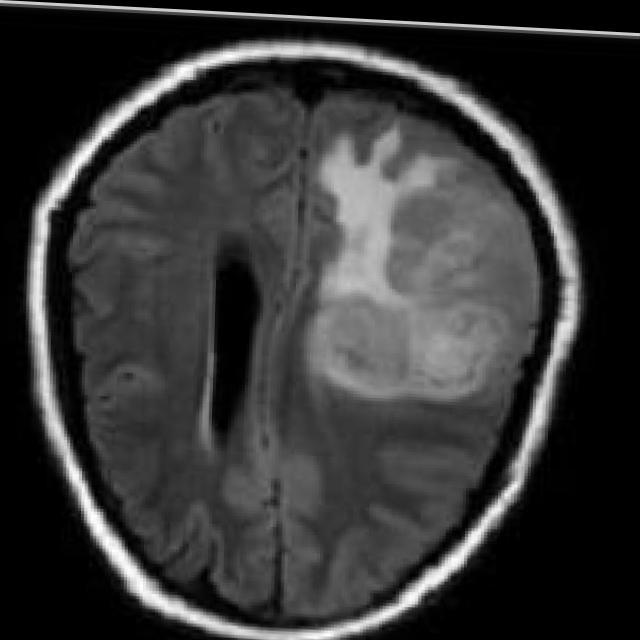Tumor: (309, 291, 505, 393)
